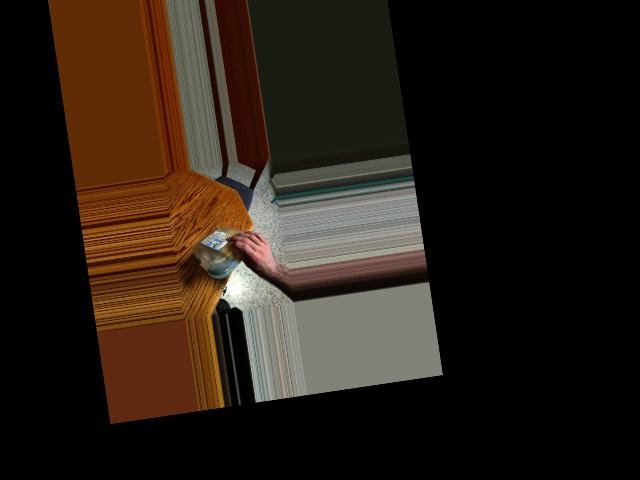cheese: (188, 219, 260, 280)
